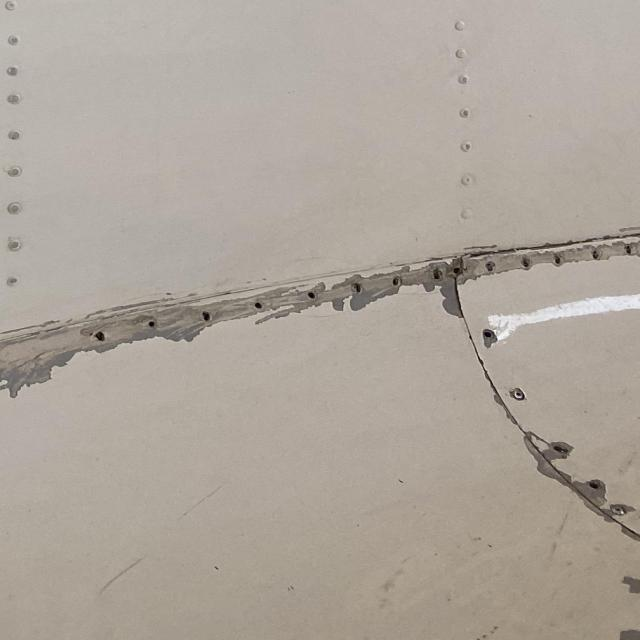Crack: (455, 225, 640, 271)
Missing-head: (305, 286, 321, 306), (200, 308, 217, 325), (93, 331, 109, 344), (145, 316, 156, 331), (390, 275, 402, 288), (254, 300, 266, 313)
Paint-off: (571, 477, 622, 523), (444, 293, 467, 320), (622, 574, 640, 598), (615, 221, 640, 235), (485, 331, 498, 350), (619, 629, 640, 640)
Scratch: (0, 250, 508, 403), (462, 243, 498, 253)
